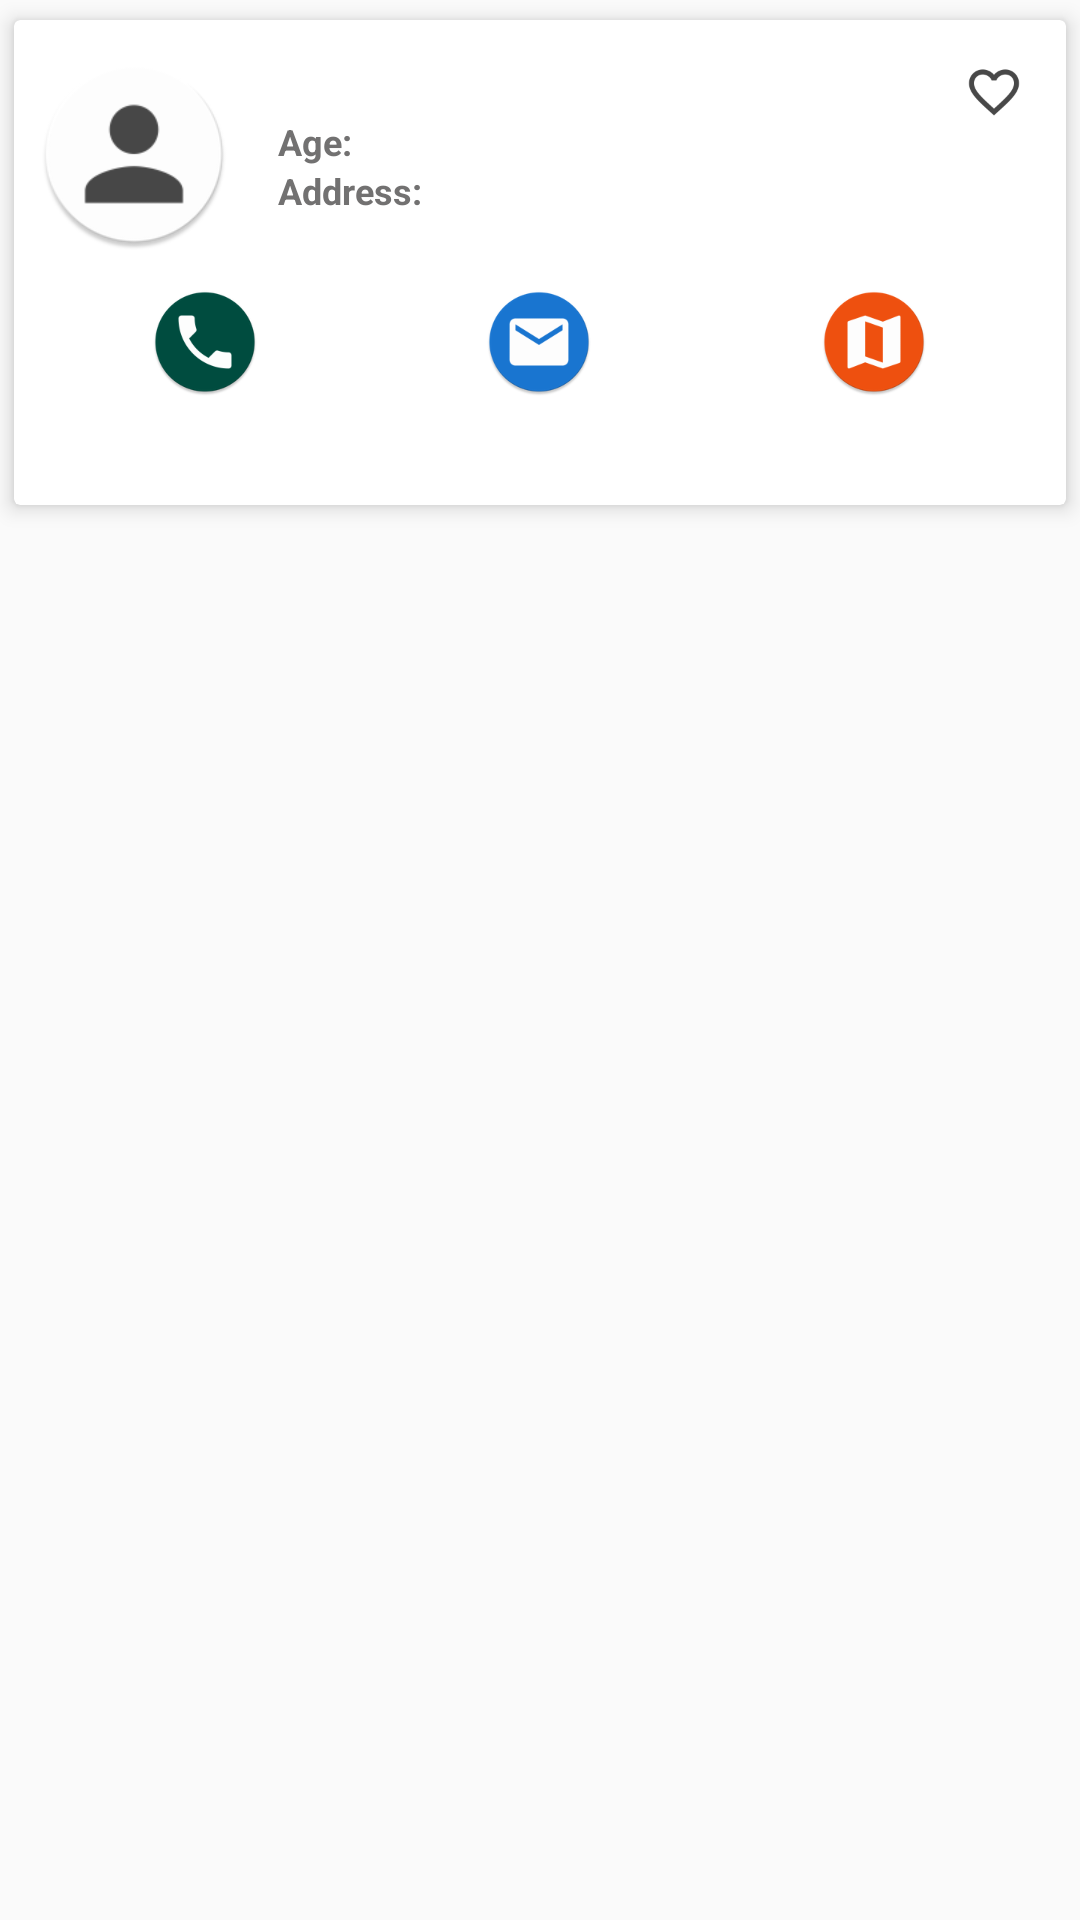

Locate icon controls on the screen. Image size 1080px×1920px, boxes as {"x1": x1, "y1": y1, "x2": x2, "y2": y2}.
address: {"x1": 824, "y1": 292, "x2": 924, "y2": 394}
call: {"x1": 155, "y1": 292, "x2": 255, "y2": 394}
fav toggle: {"x1": 969, "y1": 69, "x2": 1019, "y2": 115}
mail: {"x1": 489, "y1": 292, "x2": 589, "y2": 394}
